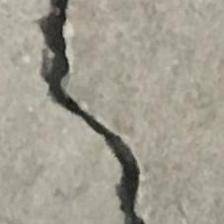Crack: (20, 0, 168, 224)
